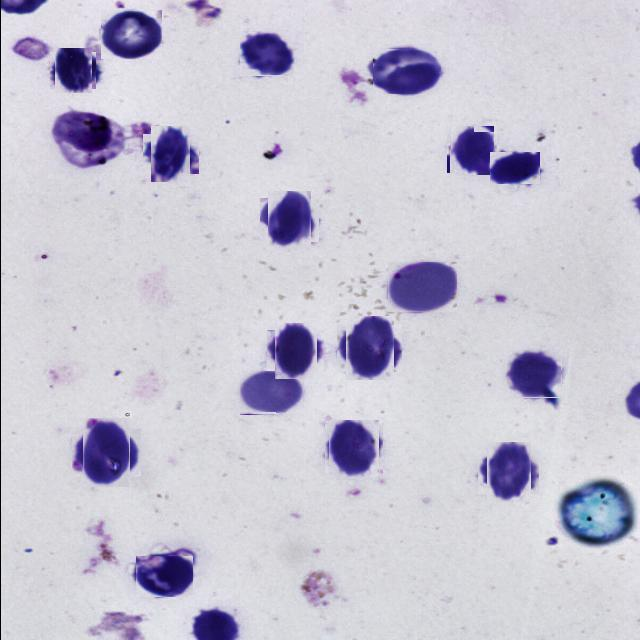difficult: (52, 110, 123, 168)
red blood cell: (76, 423, 135, 482), (387, 262, 456, 312), (340, 319, 397, 376), (372, 49, 440, 94), (98, 10, 160, 59), (326, 422, 380, 476), (239, 370, 303, 414), (482, 446, 534, 498), (263, 194, 314, 246), (506, 350, 561, 398), (270, 326, 320, 376), (239, 31, 294, 76), (135, 556, 192, 597), (146, 130, 194, 178), (448, 127, 494, 174), (51, 49, 93, 92), (489, 152, 539, 184)
